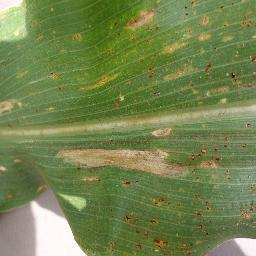Corn_Blight: (46, 143, 231, 188), (128, 228, 209, 255), (147, 56, 217, 85), (113, 5, 162, 44), (147, 91, 235, 106), (74, 70, 122, 94), (228, 52, 256, 90), (50, 190, 90, 214), (0, 91, 28, 124), (163, 25, 193, 54), (191, 191, 214, 226), (239, 183, 256, 228), (118, 210, 162, 227), (217, 0, 234, 43), (132, 126, 182, 139), (1, 153, 26, 178), (196, 12, 214, 44), (239, 9, 255, 37), (45, 64, 65, 86), (152, 193, 179, 208), (184, 0, 198, 22), (68, 28, 84, 46), (111, 97, 131, 110), (27, 30, 44, 44), (38, 102, 55, 116), (13, 67, 27, 83), (221, 130, 236, 142), (245, 120, 256, 132), (241, 141, 249, 155)
